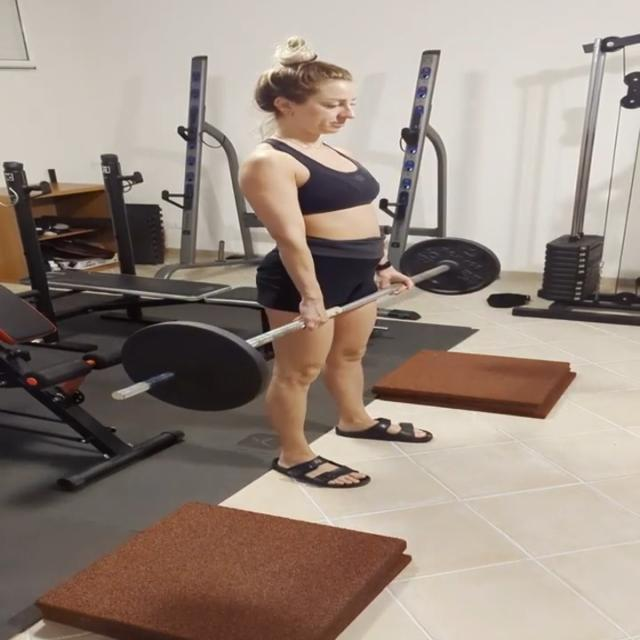barbell: (104, 318, 272, 416)
